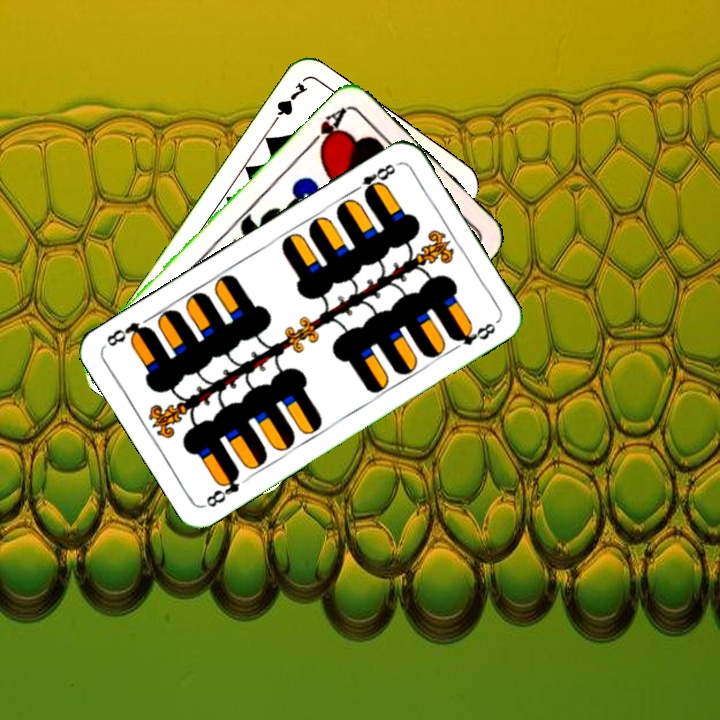E8: (347, 160, 398, 200), (201, 467, 243, 510)
G7: (266, 78, 311, 130)
HA: (303, 103, 350, 155)
